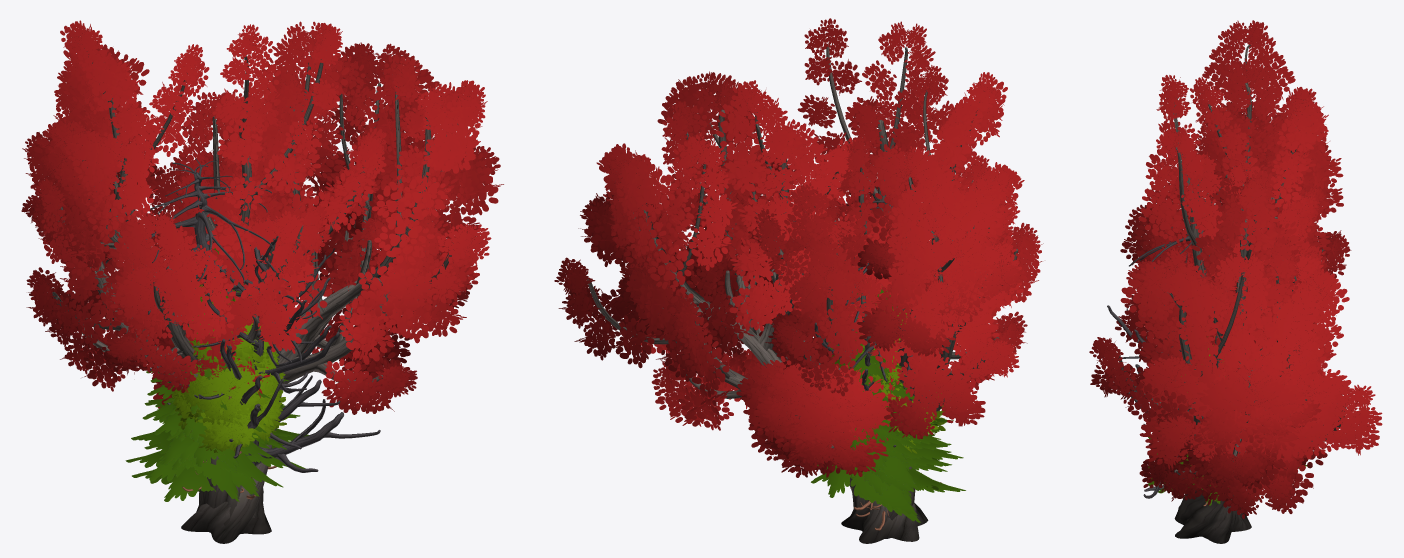
The model's file is trees.glb.
3 renders of one model, left to right at view 1: azimuth 30°, elevation 25°; view 2: azimuth 150°, elevation 25°; view 3: azimuth 270°, elevation 25°, orthographic. The views are drawn at different scales.
Parts seen in each view (by area): view 1: TwistedTree_2, TwistedTree_1, DeadTree_2, Pine_2, CommonTree_3, DeadTree_3, Pine_4, CommonTree_1, Pine_5, CommonTree_2, DeadTree_1, Pine_1; view 2: TwistedTree_1, TwistedTree_2, Pine_5, Pine_4, Pine_2; view 3: TwistedTree_1, TwistedTree_2, DeadTree_2, DeadTree_3.
Part boxes in pixels (x1,y1,x2,y2): TwistedTree_2: (21, 20, 342, 526); TwistedTree_1: (152, 21, 503, 543); DeadTree_2: (169, 220, 380, 472); Pine_2: (132, 355, 292, 501); CommonTree_3: (180, 299, 285, 429); DeadTree_3: (105, 158, 302, 533); Pine_4: (131, 248, 289, 491); CommonTree_1: (174, 349, 287, 452); Pine_5: (125, 344, 308, 496); CommonTree_2: (171, 339, 285, 454); DeadTree_1: (146, 277, 340, 449); Pine_1: (144, 397, 275, 478); TwistedTree_1: (554, 71, 928, 543); TwistedTree_2: (754, 18, 1043, 520); Pine_5: (817, 318, 955, 514); Pine_4: (832, 273, 963, 530); Pine_2: (811, 422, 965, 522); TwistedTree_1: (1089, 170, 1382, 543); TwistedTree_2: (1120, 20, 1351, 530); DeadTree_2: (1107, 253, 1187, 498); DeadTree_3: (1129, 187, 1236, 538).
Bounding box in the file's own units: 17.96 × 19.08 × 11.55.
6 materials, 6 textured.
